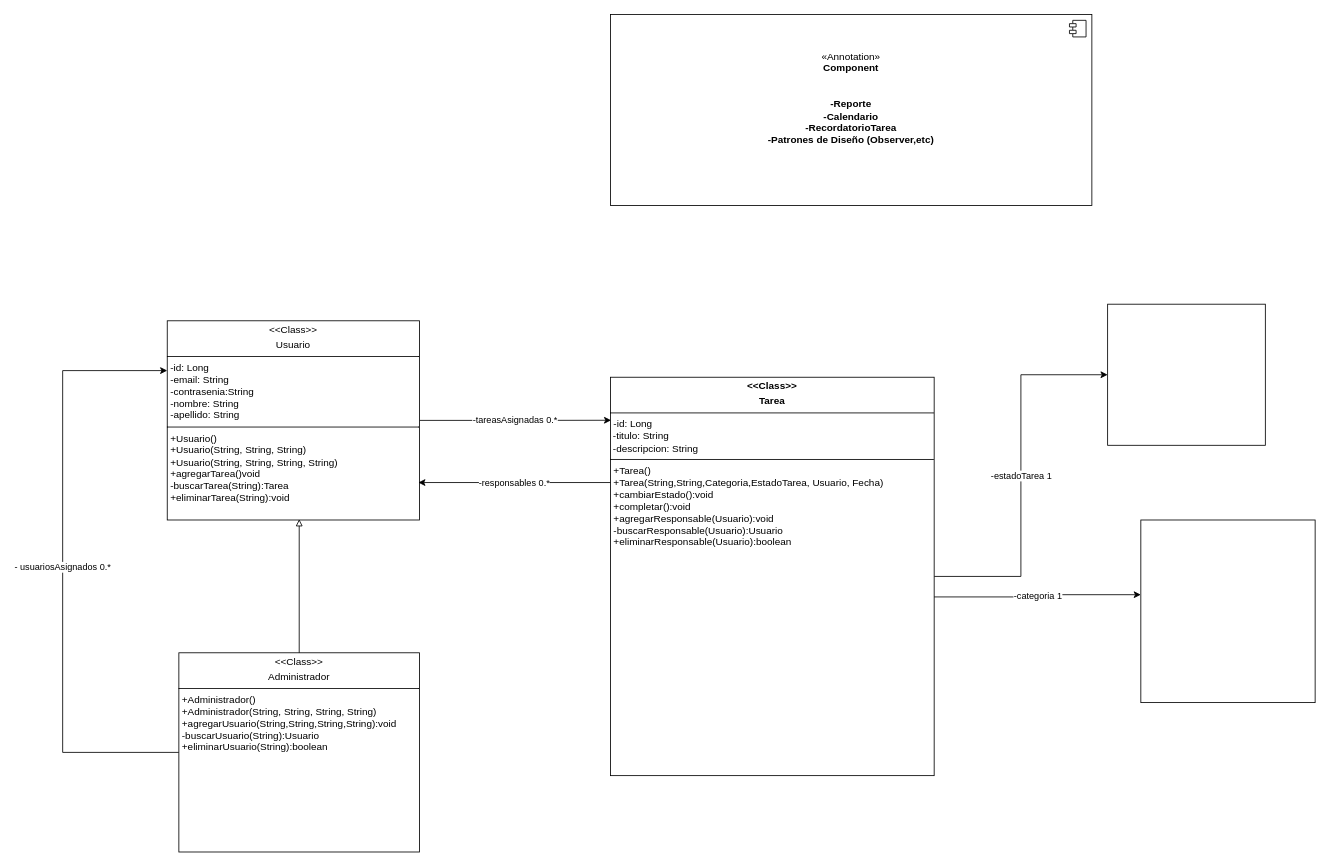
Image size: 1330x867. Some labels were removed from this diagram. Each missing label, with the box of its shape:
<<Class>> Categoria -id:Long -nombre: String +Categoria() +Categoria(String): (1140, 519, 1315, 703)
<<Enum>> EstadoTarea +COMPLETADA +PENDIENTE: (1107, 303, 1265, 445)
